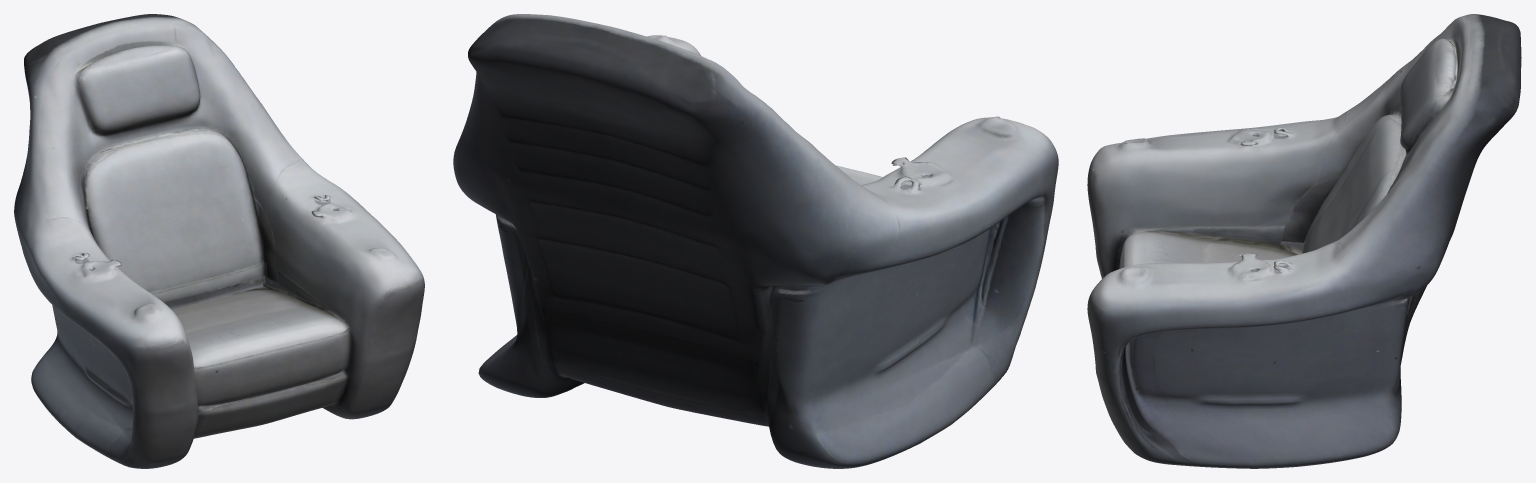
File: Kursi_Angkasa.glb
3 views of the same model, side by side, from view 1: azimuth 30°, elevation 25°; view 2: azimuth 150°, elevation 25°; view 3: azimuth 270°, elevation 25° (orthographic). The views are drawn at different scales.
Bounding box in the file's own units: 1.92 × 1.83 × 2.
Materials: 1 (1 with a texture image).
